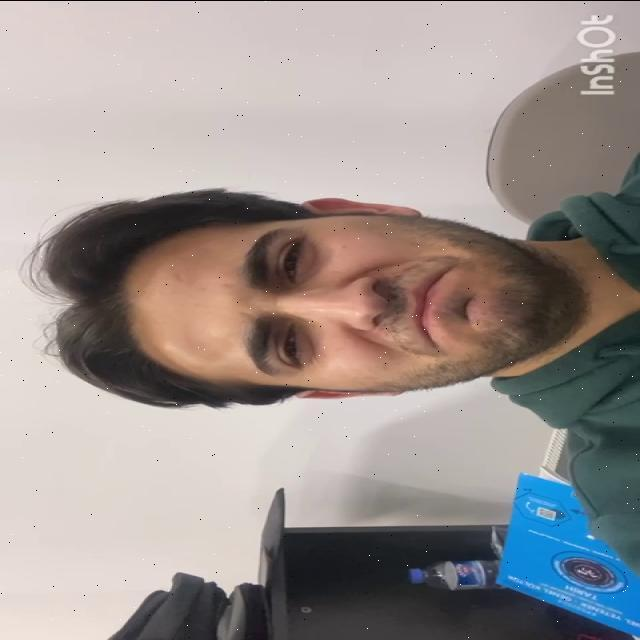sad: (146, 196, 540, 408)
